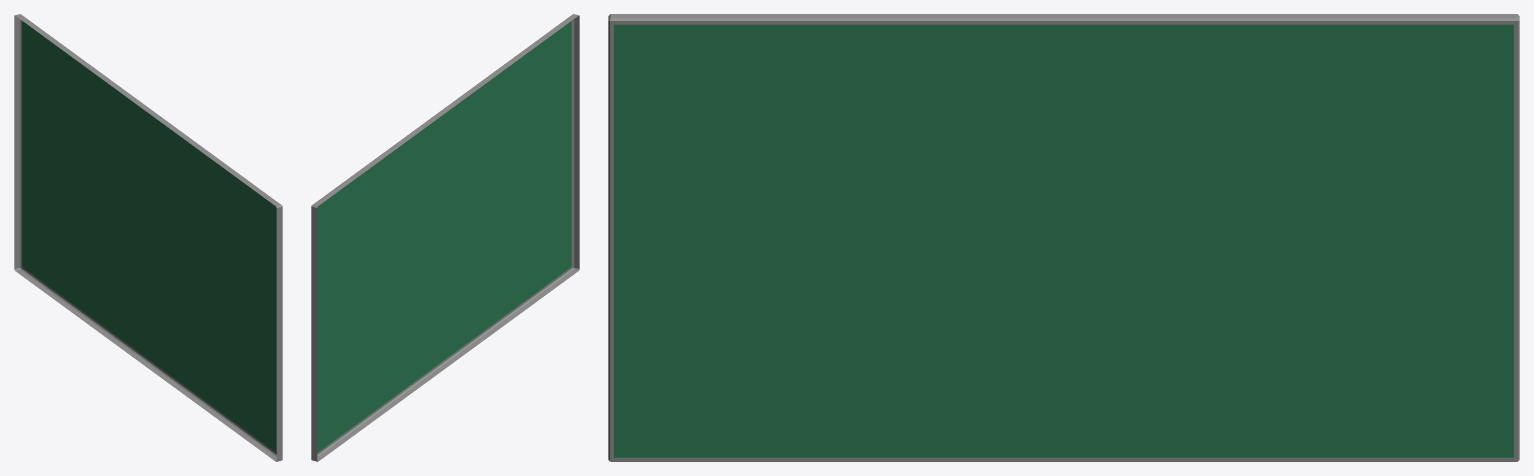
Rendered from Frame2.FBX.
3 views of the same model, side by side, from view 1: azimuth 30°, elevation 25°; view 2: azimuth 150°, elevation 25°; view 3: azimuth 270°, elevation 25° (orthographic). The views are drawn at different scales.
Visible parts, largest first — view 1: Frame2; view 2: Frame2; view 3: Frame2.
Part boxes in pixels (left/top/right/bottom): Frame2: left=14, top=14, right=282, bottom=461; Frame2: left=311, top=14, right=579, bottom=461; Frame2: left=608, top=14, right=1519, bottom=461.
Size of the model in its own units: 5.79 by 216 by 402.
